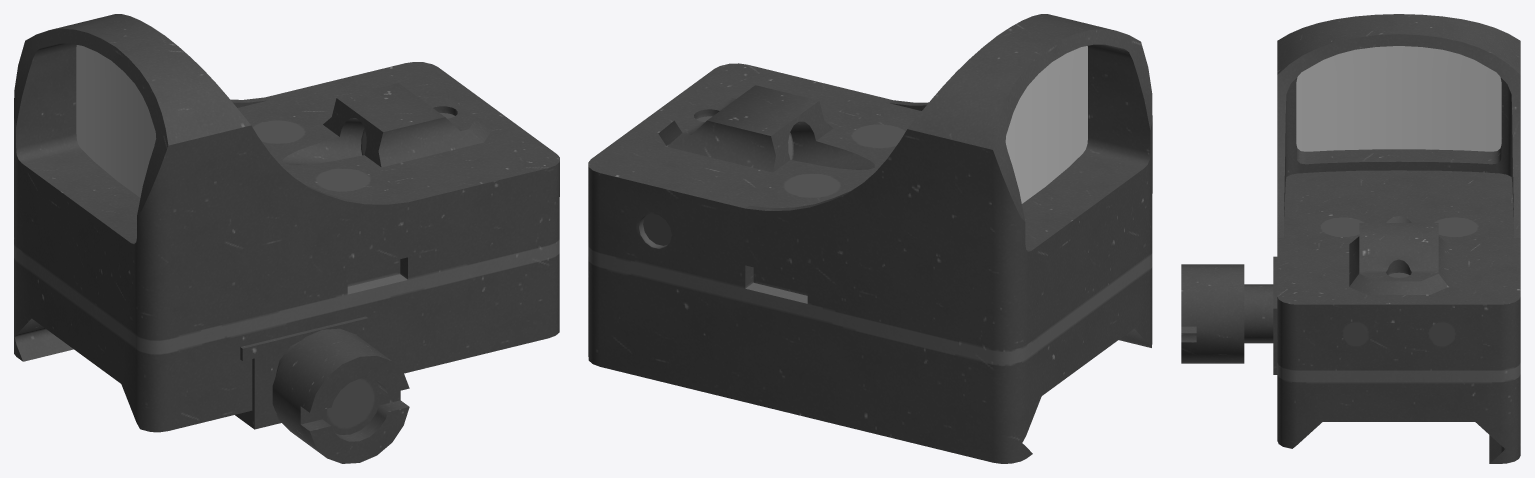
File: _ilad.FBX
3 renders of one model, left to right at view 1: azimuth 30°, elevation 25°; view 2: azimuth 150°, elevation 25°; view 3: azimuth 270°, elevation 25°, orthographic. The views are drawn at different scales.
Parts seen in each view (by area): view 1: Object004, Object009; view 2: Object004, Object009; view 3: Object004, Object009.
Boxes of the visible parts, bbox=[...] form: Object004: bbox=[14, 14, 559, 463]; Object009: bbox=[76, 45, 156, 197]; Object004: bbox=[588, 14, 1152, 463]; Object009: bbox=[1005, 46, 1087, 203]; Object004: bbox=[1181, 14, 1520, 463]; Object009: bbox=[1296, 46, 1501, 151].
Size of the model in its own units: 40.84 by 32.43 by 33.56.
